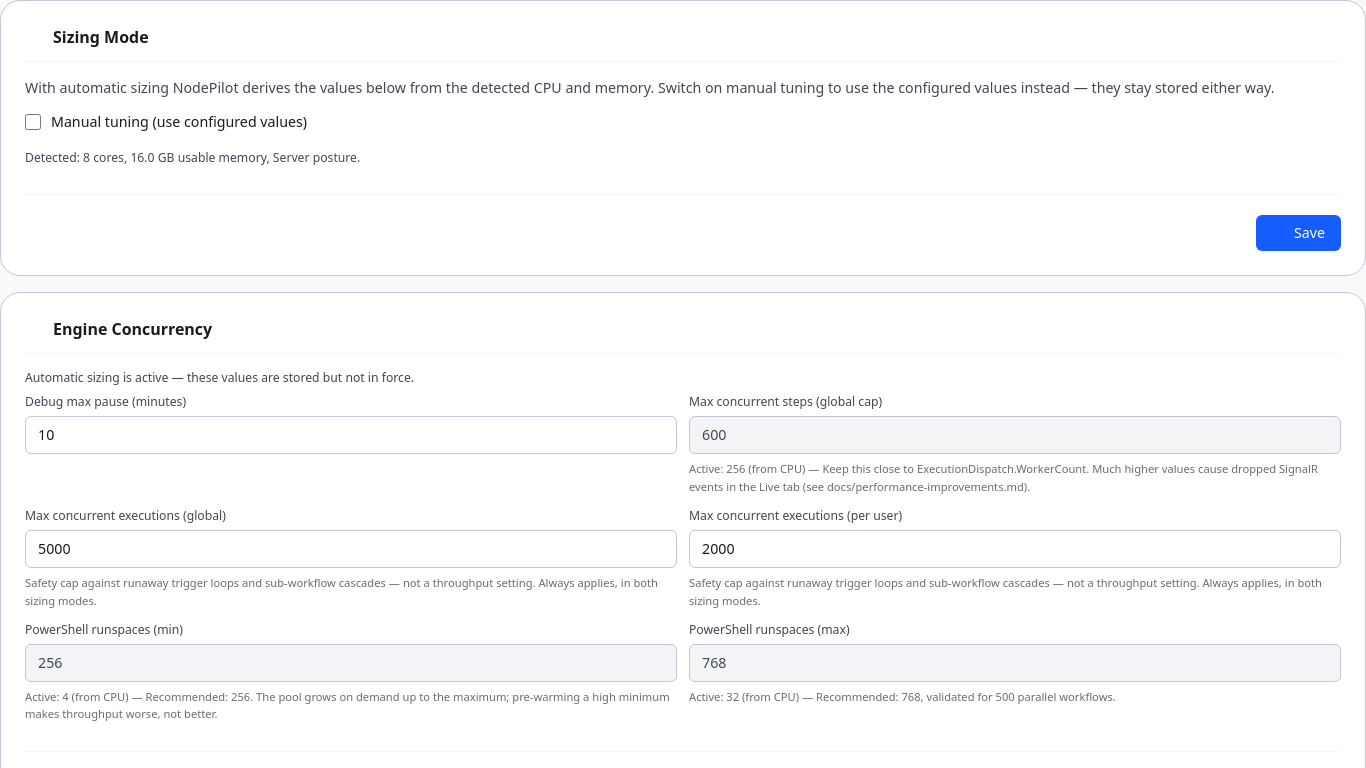
Test: PerformanceSection › flips the cards the moment the mode checkbox is clicked
expect the number field showing "256" below "PowerShell runspaces (min)" is disabled: met, box [25,644,677,682]
Click the checkbox labelled "Manual tuning (use configured values)" at (33, 122), box [25,114,41,130]
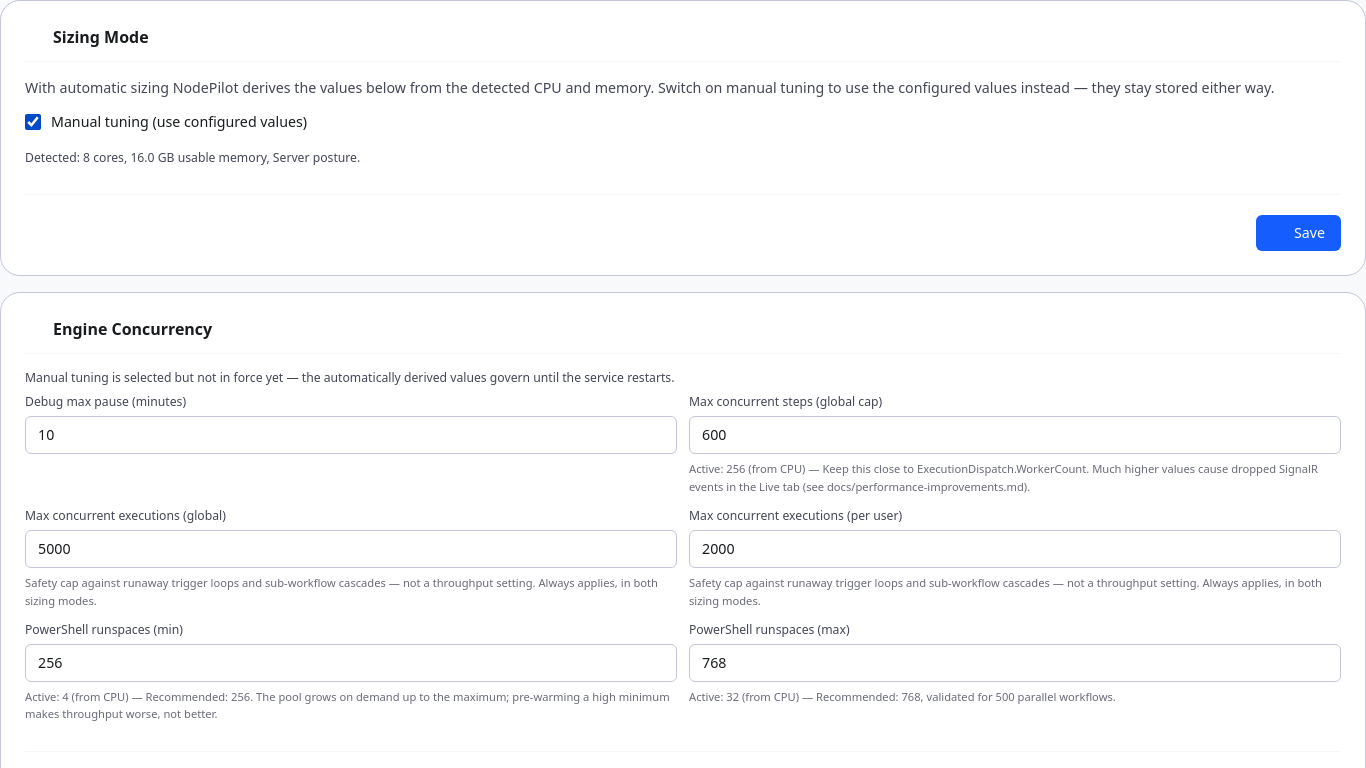
expect the number field showing "256" below "PowerShell runspaces (min)" is enabled: met, box [25,644,677,682]
